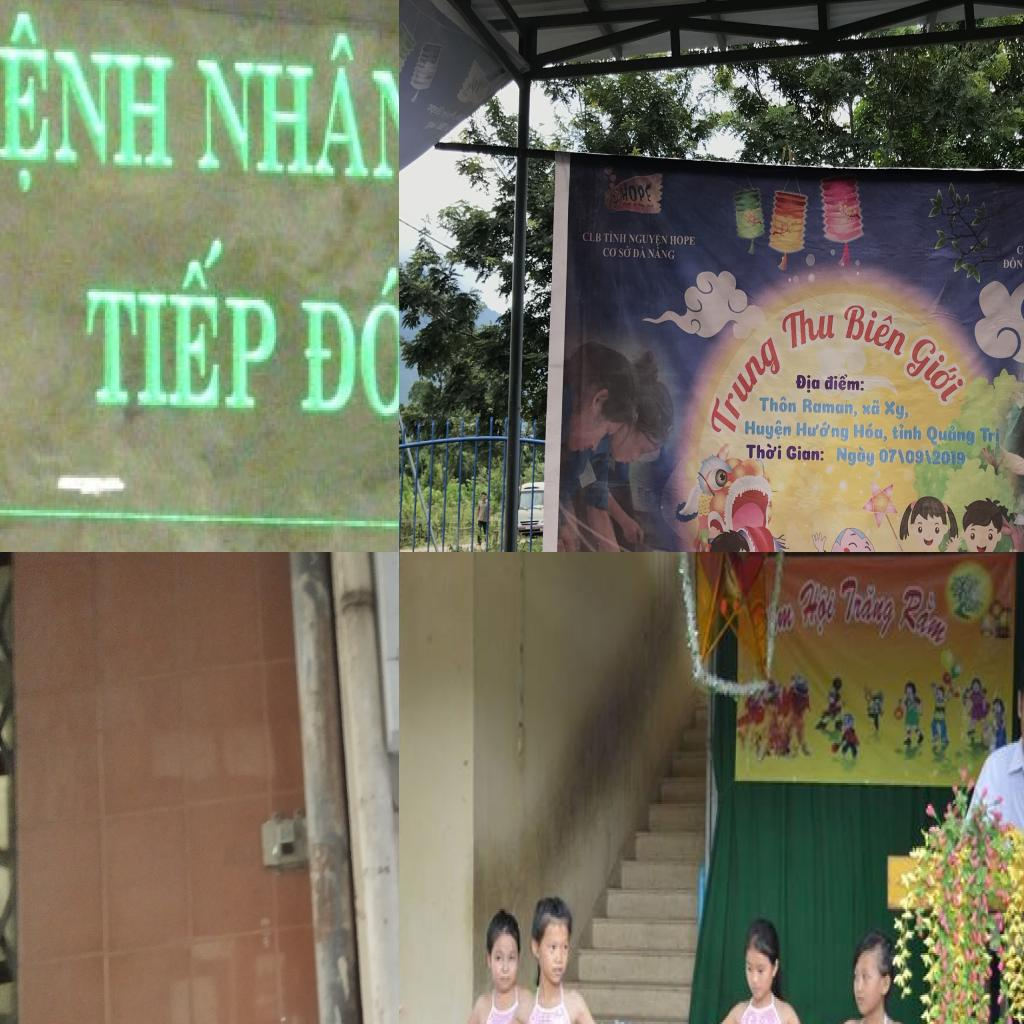text: (83, 224, 284, 424), (190, 20, 399, 203), (0, 3, 184, 205), (700, 317, 784, 444), (839, 291, 915, 362), (901, 327, 969, 406), (839, 571, 902, 649), (778, 302, 836, 352), (798, 574, 838, 642), (795, 420, 851, 444), (925, 423, 976, 448), (802, 398, 859, 418), (744, 418, 792, 440), (852, 420, 888, 445), (836, 446, 876, 468), (616, 181, 654, 204), (785, 443, 825, 464), (824, 373, 865, 393), (758, 395, 798, 415), (745, 442, 782, 460), (628, 232, 669, 248), (884, 399, 911, 423), (892, 422, 923, 442), (795, 372, 821, 394), (979, 426, 1002, 449), (647, 247, 675, 262), (861, 397, 881, 418), (603, 230, 627, 246), (670, 234, 696, 247), (1002, 256, 1024, 270), (581, 231, 603, 243), (602, 244, 618, 258), (618, 245, 632, 259), (632, 246, 647, 259), (1015, 243, 1024, 257)
